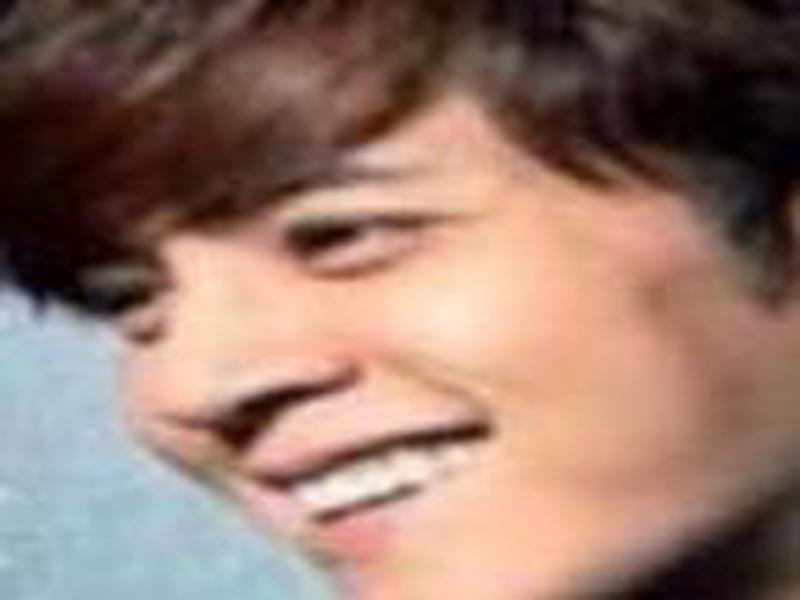without_mask: (68, 87, 776, 597)
